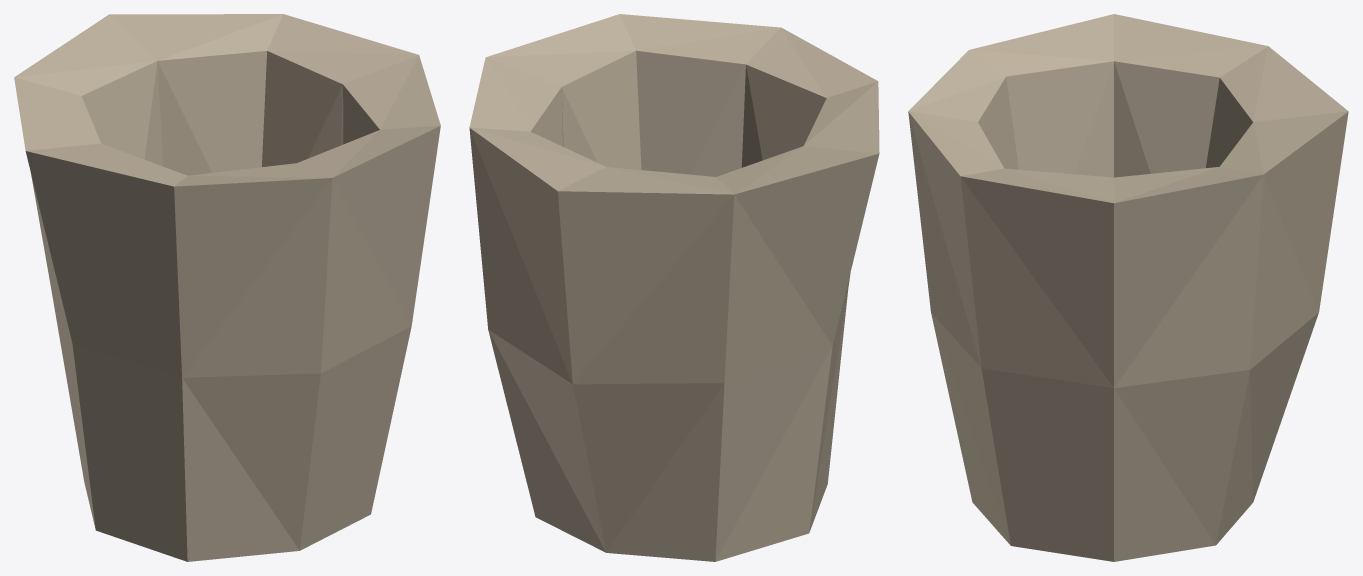
The model's file is prop-inkhorn-cup-rough.fbx.
The picture shows the model from 3 angles, left to right: view 1: azimuth 30°, elevation 25°; view 2: azimuth 150°, elevation 25°; view 3: azimuth 270°, elevation 25°; orthographic projection.
Parts seen in each view (by area): view 1: prop-inkhorn-cup-rough; view 2: prop-inkhorn-cup-rough; view 3: prop-inkhorn-cup-rough.
Part boxes in pixels (x1,y1,x2,y2): prop-inkhorn-cup-rough: [14, 14, 440, 561]; prop-inkhorn-cup-rough: [469, 14, 879, 561]; prop-inkhorn-cup-rough: [908, 14, 1348, 561].
Size of the model in its own units: 7.48 by 7.2 by 7.35.
